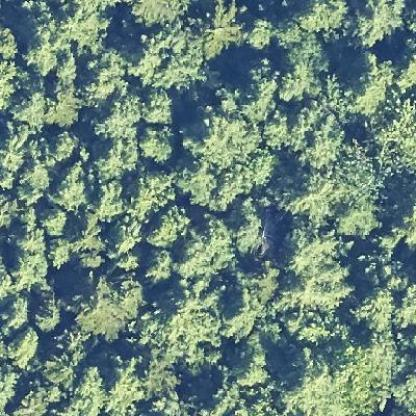tree-top: (63, 273, 148, 339), (182, 108, 260, 175), (326, 142, 384, 203), (278, 223, 346, 274), (278, 168, 337, 222), (194, 2, 246, 58), (52, 5, 113, 52), (350, 0, 404, 46), (144, 200, 194, 249), (350, 283, 398, 331), (49, 158, 93, 209), (101, 212, 145, 259), (0, 324, 42, 370), (44, 81, 86, 127), (139, 86, 179, 127), (138, 125, 177, 167), (69, 362, 108, 397), (244, 15, 278, 51), (44, 231, 70, 266), (0, 21, 22, 62)
